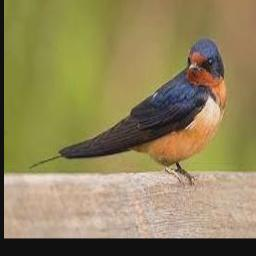Swallow: (29, 39, 228, 187)
